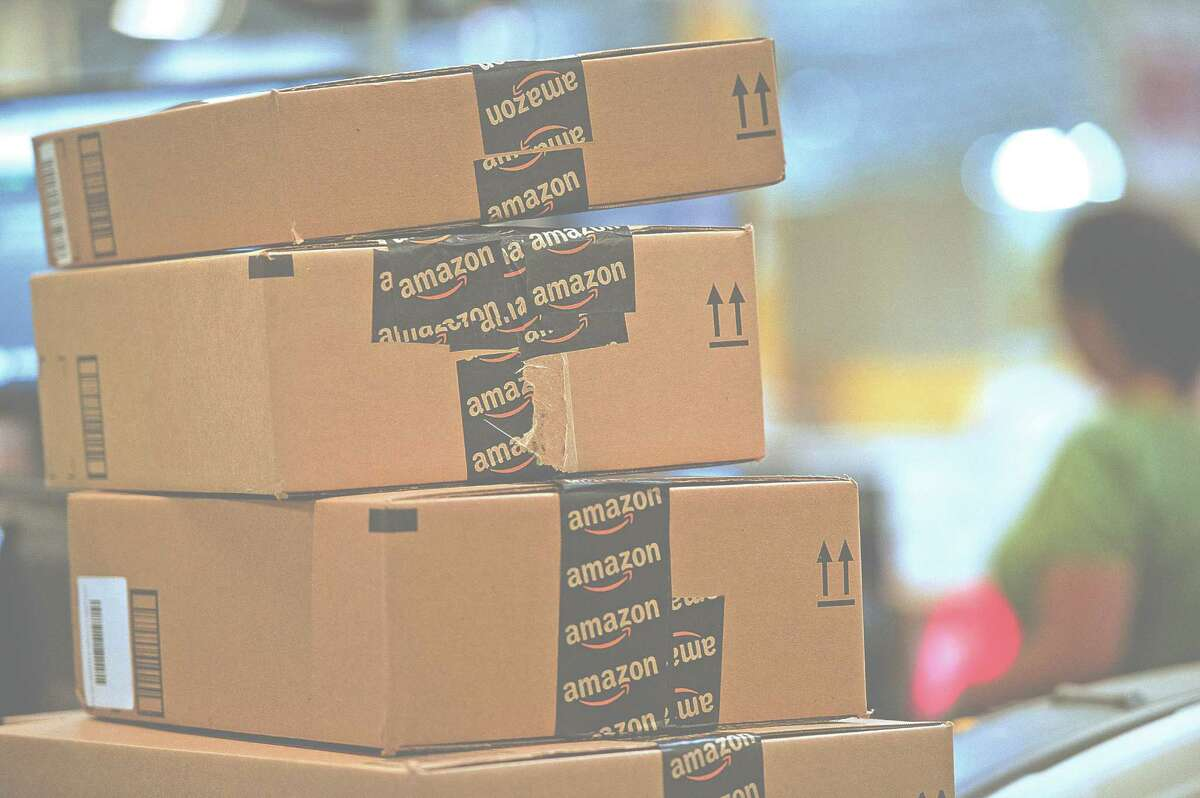package: (73, 472, 863, 752), (37, 207, 772, 506), (29, 32, 796, 274), (0, 708, 950, 798)
